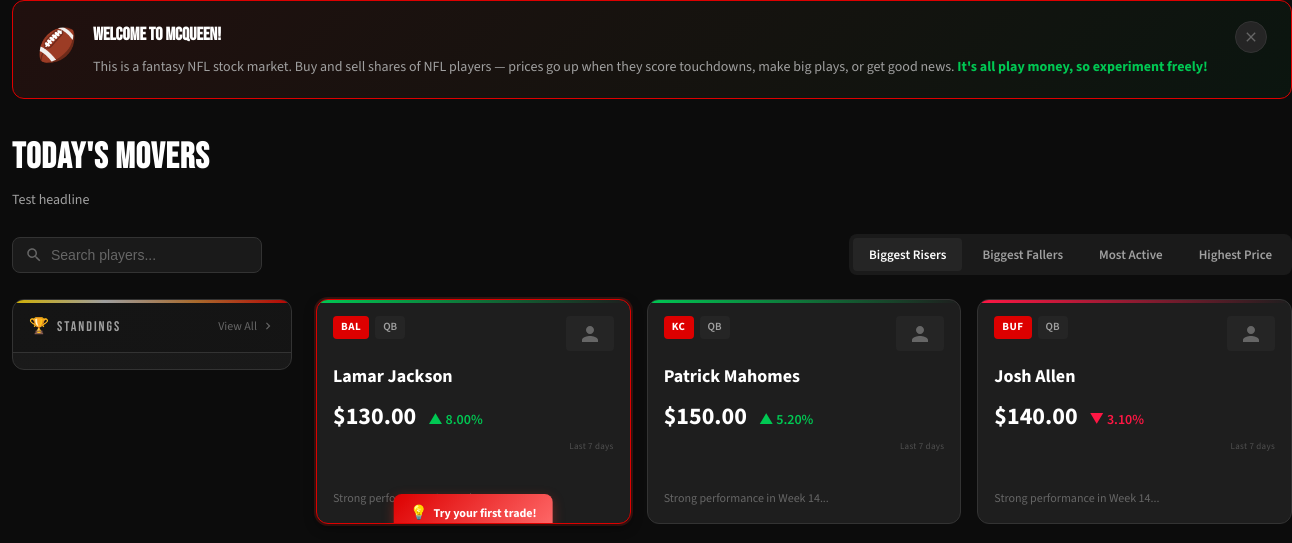
it: Market page › dismissing the welcome banner persists to localStorage
The width and height of the screenshot is (1292, 543).
Expected: the heading "Welcome to McQueen!" is shown, x1=93 y1=24 x2=221 y2=45
Click the button named "Dismiss welcome message".
click(1251, 37)  # box x1=1235 y1=21 x2=1267 y2=53
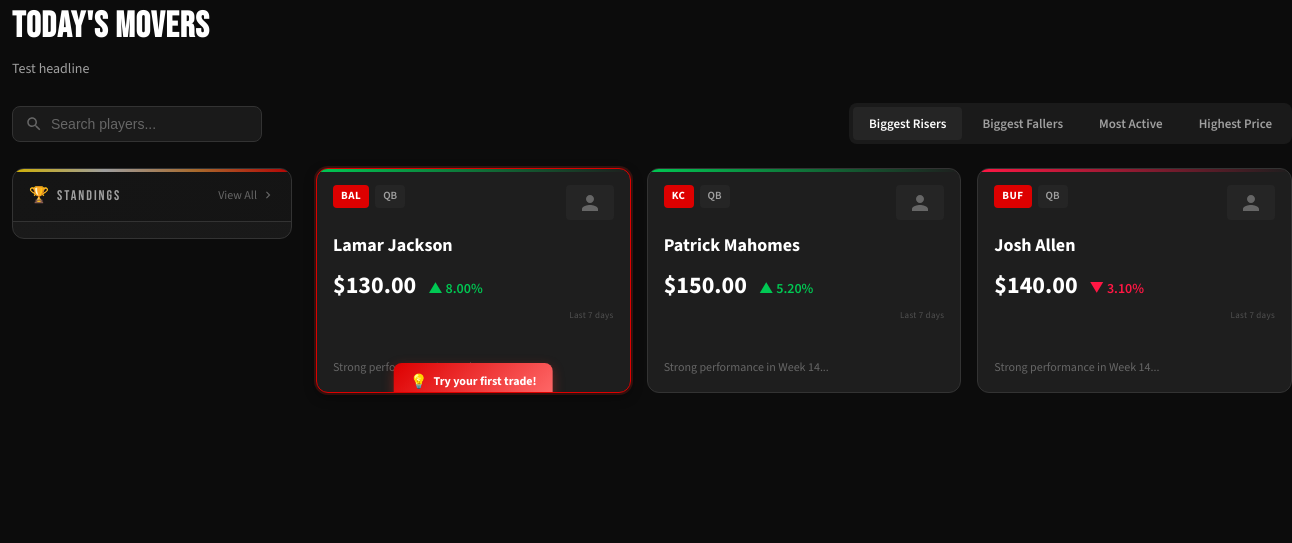
Now the heading "Welcome to McQueen!" is gone
